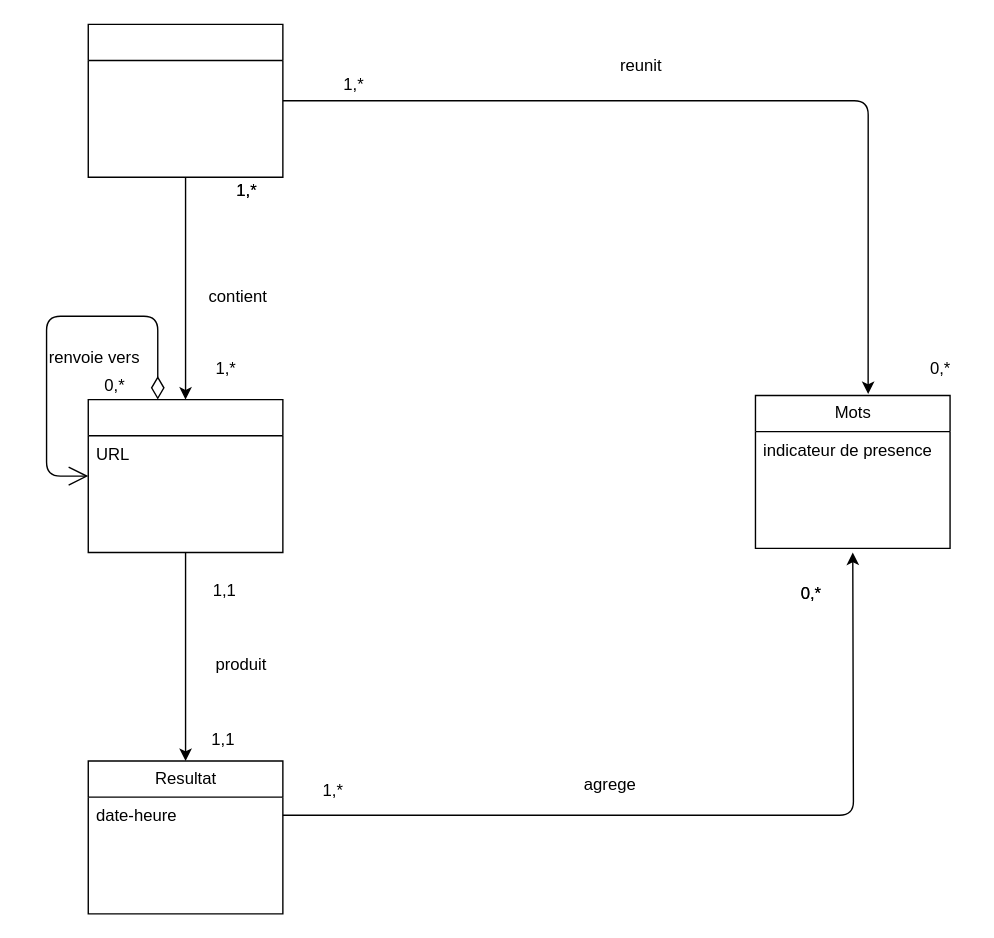
The diagram is 994 pixels wide and 938 high, and some of its shapes have lost their labels. The box of each missing label's shape, as (x1, y1, x2, y2) in pixels:
Dictionnaire: (87, 23, 283, 177)
Page: (87, 398, 283, 553)
